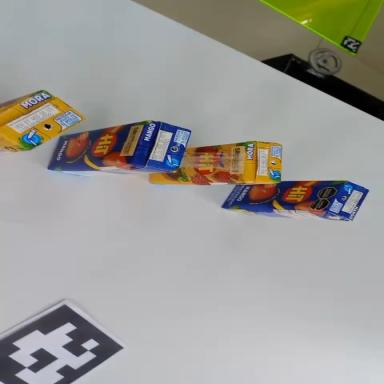HIT-MANGO: (47, 119, 192, 176), (221, 180, 369, 221)
HIT-MORA: (0, 72, 86, 163), (149, 140, 282, 185)
cara_F: (45, 121, 151, 169), (149, 143, 245, 183), (222, 180, 345, 211), (0, 83, 43, 112)
